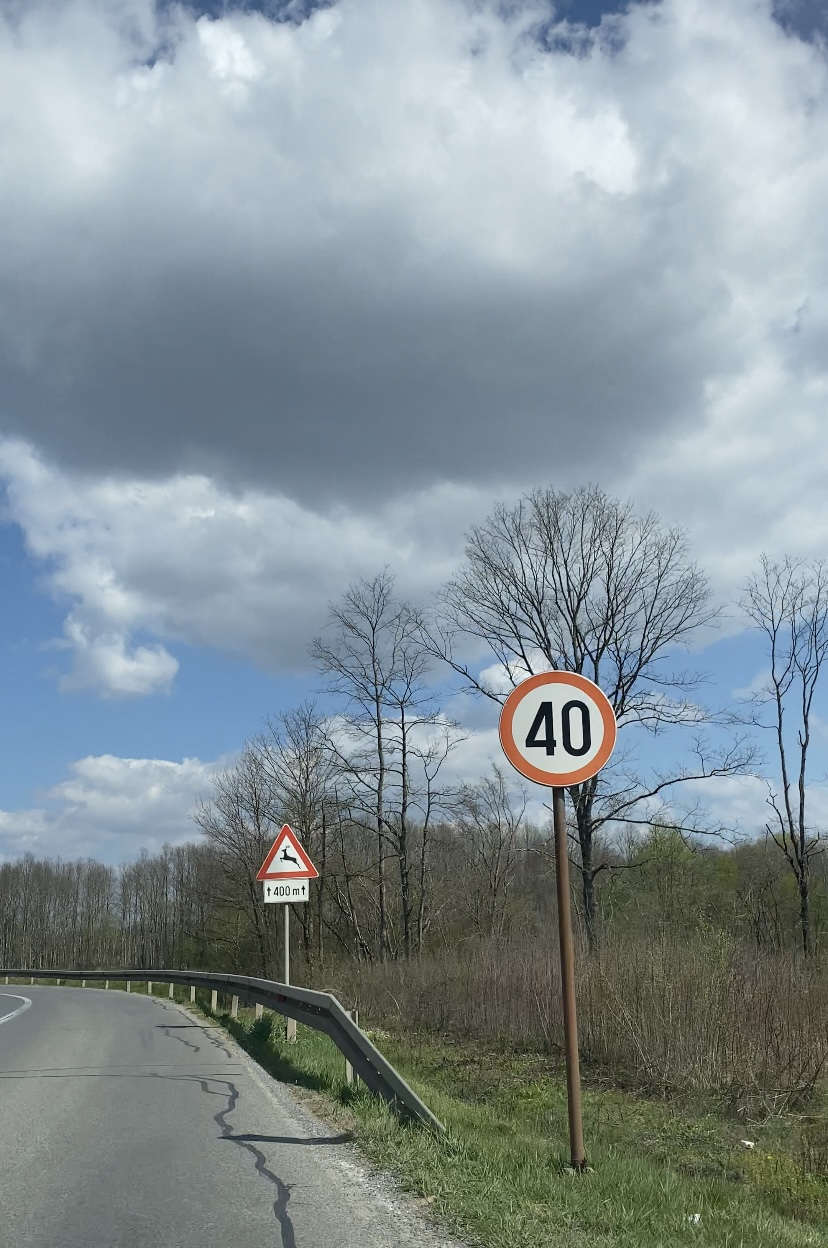Divljač na cesti: (256, 823, 319, 880)
Ograničenje brzine 40: (499, 670, 618, 788)
